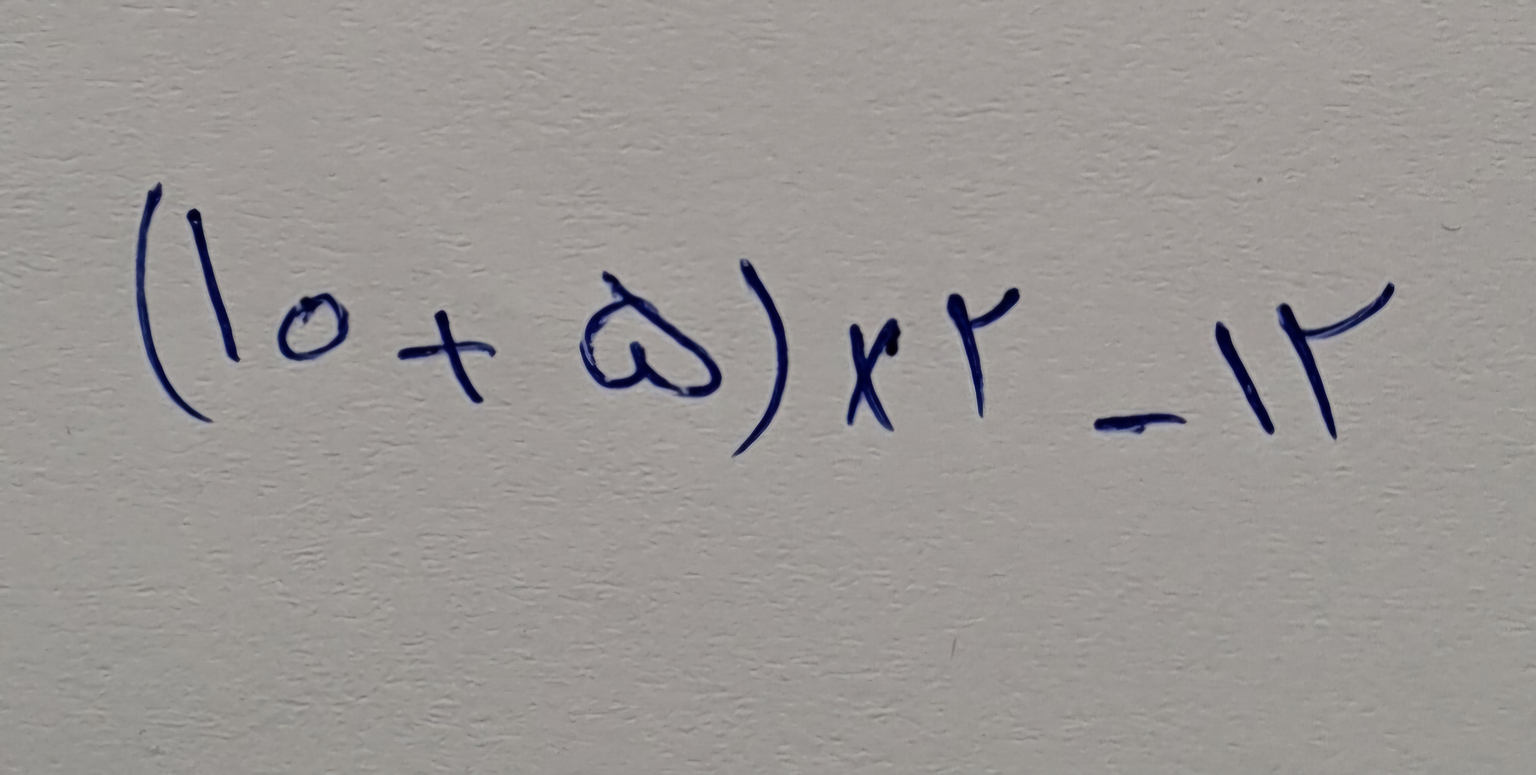character: (1264, 281, 1406, 450), (127, 178, 212, 425), (574, 263, 721, 398), (725, 256, 788, 453), (938, 288, 1020, 418), (398, 305, 503, 403), (181, 206, 243, 364), (1210, 317, 1286, 435), (835, 317, 898, 433), (265, 289, 353, 365), (1085, 402, 1186, 431)
